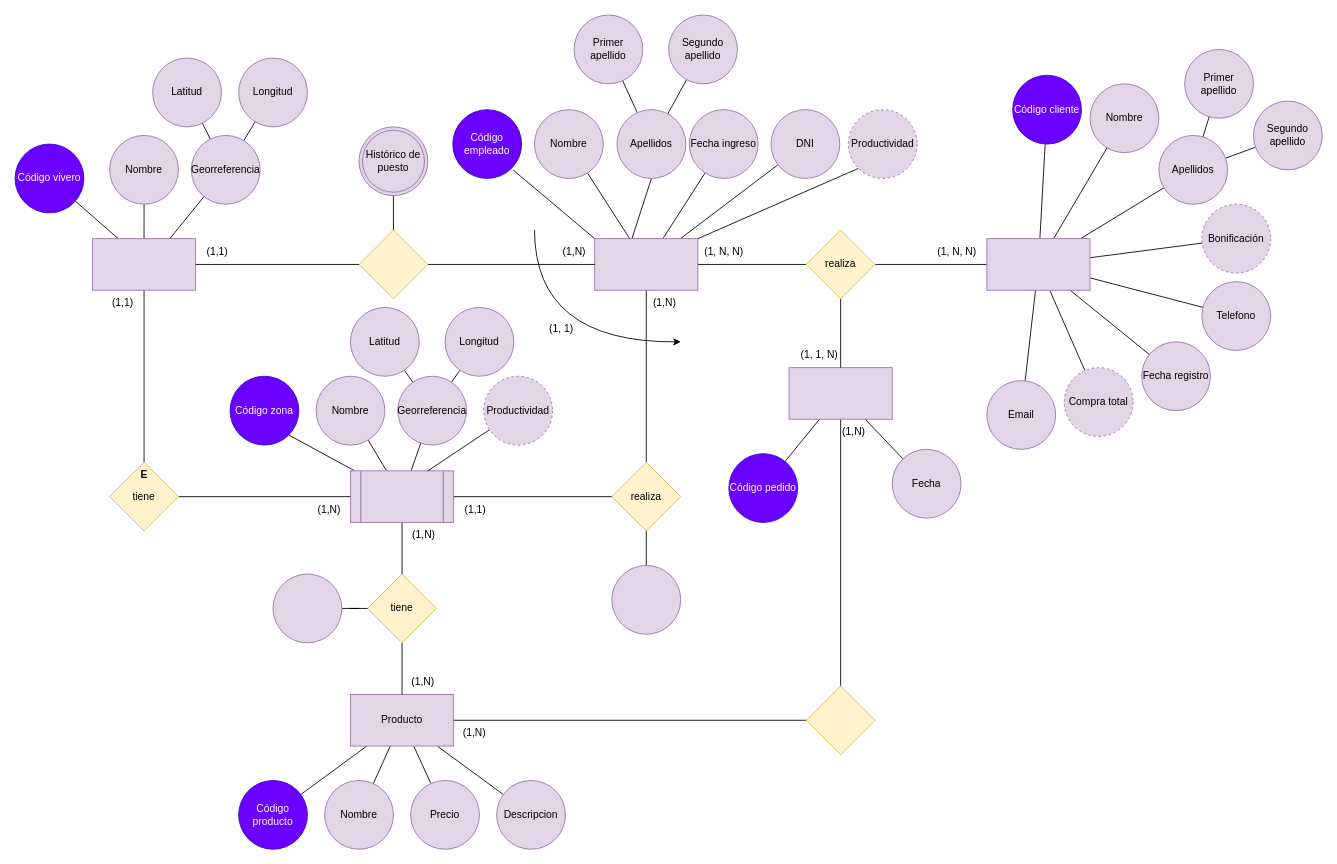
Some shapes in this 1337 by 864 pixel diagram are drawn without their labels. The centre of each missing label's shape, as x and y in pixels:
"Cliente fidelizado" belongs at point 1038,264.
"compone" belongs at point 840,720.
"Empleado" belongs at point 646,264.
"Pedido" belongs at point 840,393.
"Stock" belongs at point 307,608.
"Tarea" belongs at point 646,599.
"trabaja" belongs at point 393,264.
"Vivero" belongs at point 144,264.
"Zona" belongs at point 402,496.
